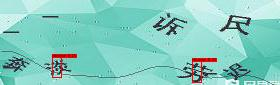chinese: (152, 11, 185, 39), (221, 12, 254, 38), (180, 57, 213, 81), (44, 57, 74, 79), (224, 60, 252, 81), (3, 53, 25, 73)
